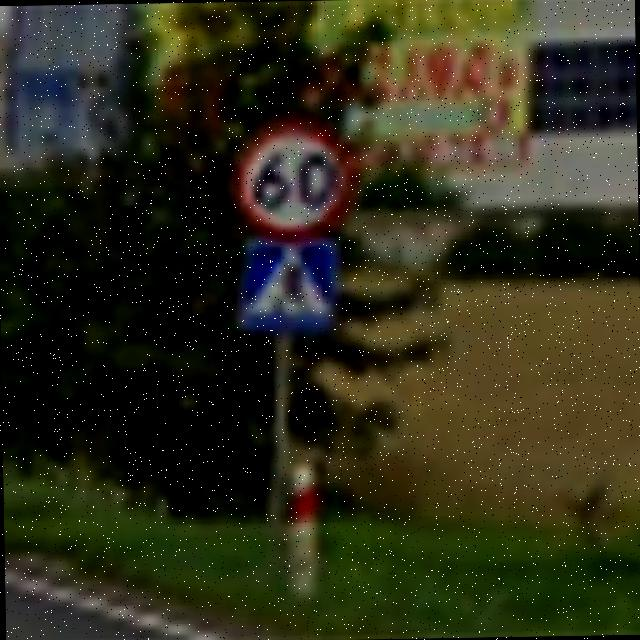Przejscie dla pieszych: (230, 234, 341, 334)
